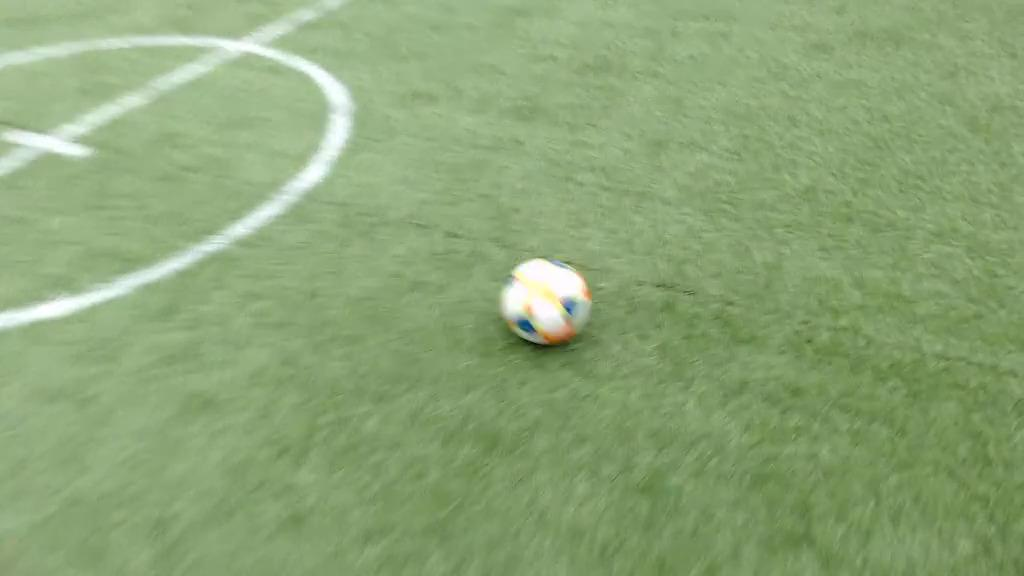ball: (500, 256, 590, 348)
